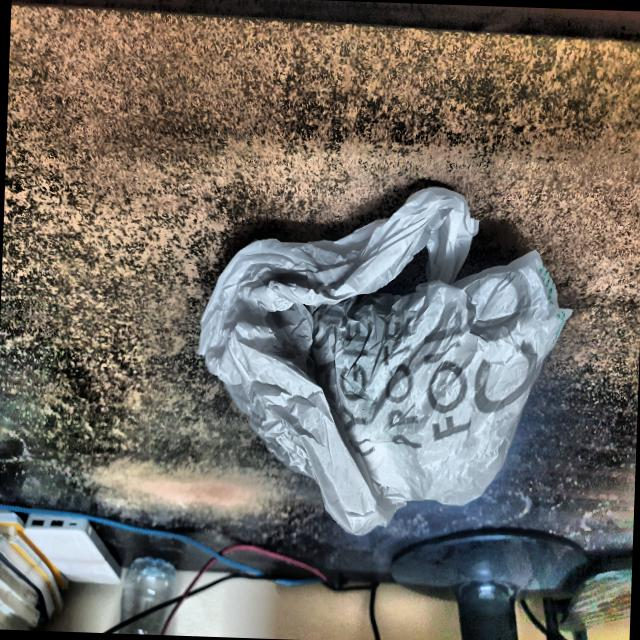plastic bag: (183, 170, 590, 550)
